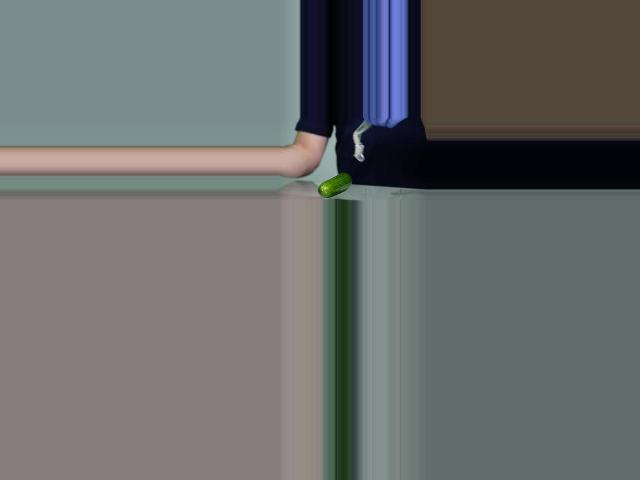cucumber: (317, 173, 351, 198)
